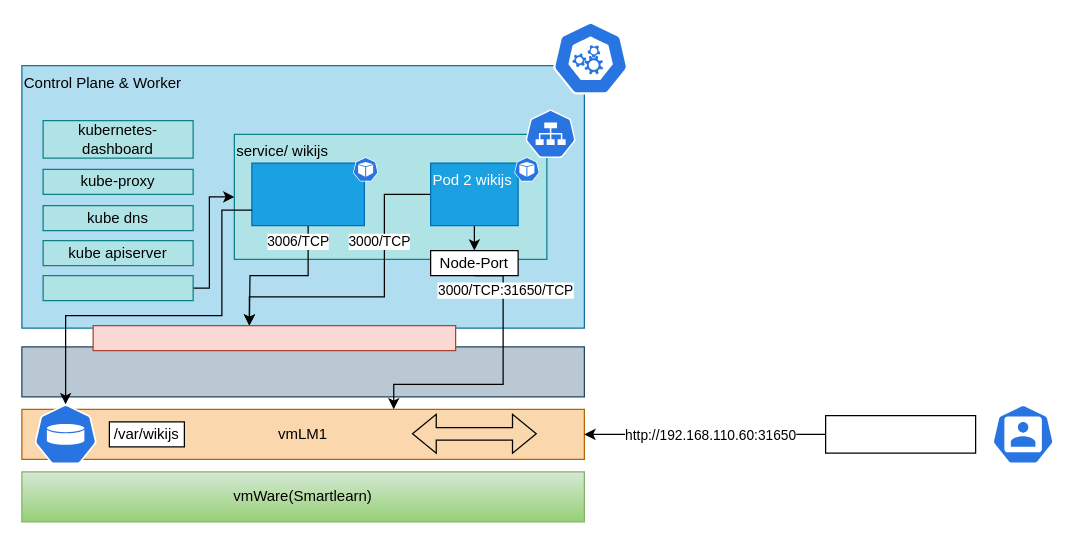
Some shapes in this 1076 by 544 pixel diagram are drawn without their labels. Each missing label, with the centre of its shape:
docker: point (302, 371)
Kube-Net (Cluster-IP): point (274, 337)
kubelet: point (117, 287)
Pod 1 mariadb: point (307, 194)
vmKL1: point (900, 433)
